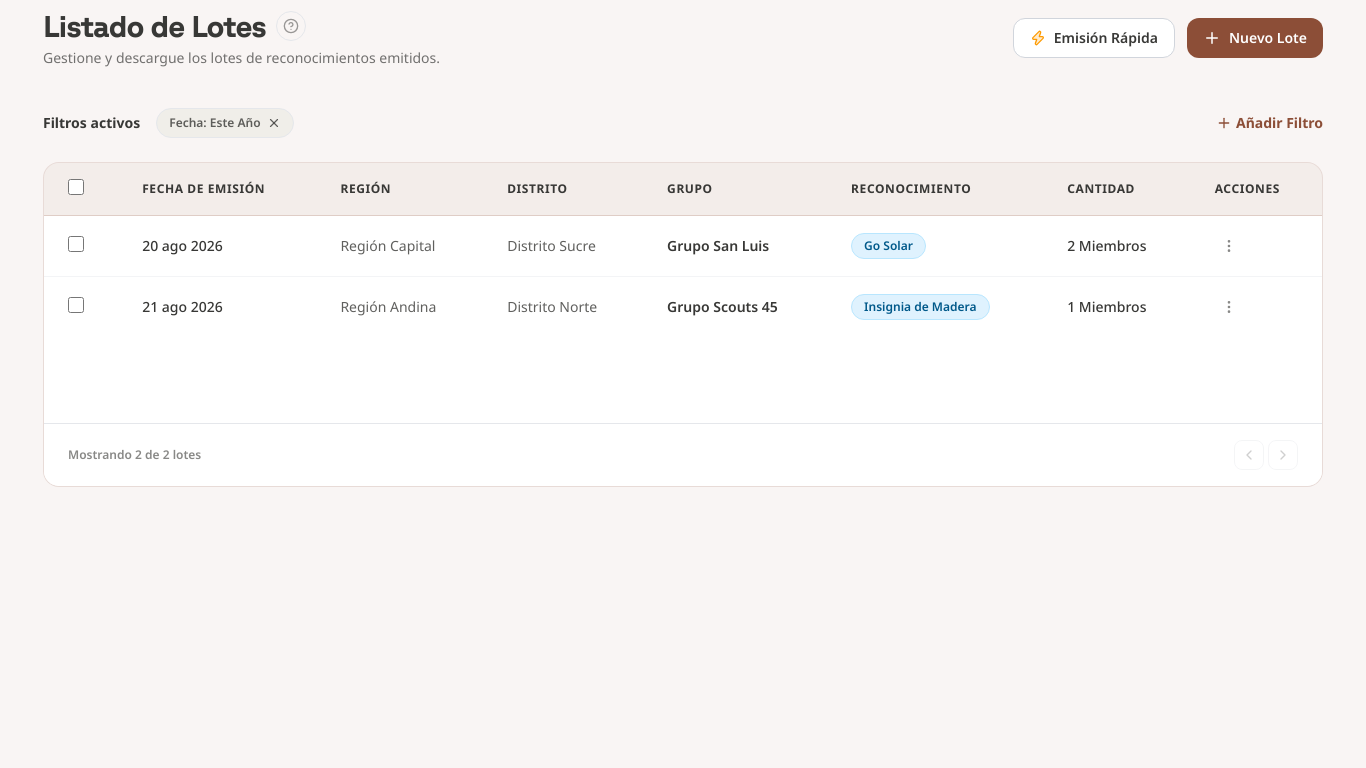
it: BatchList component › loads dynamic recognition types and populates options in the filter modal
Expected: the text "Grupo San Luis" is shown, [667,236,769,255]
Click Añadir Filtro
Click the button "Añadir Filtro". click: (1270, 123)
box: [1216,113,1323,133]
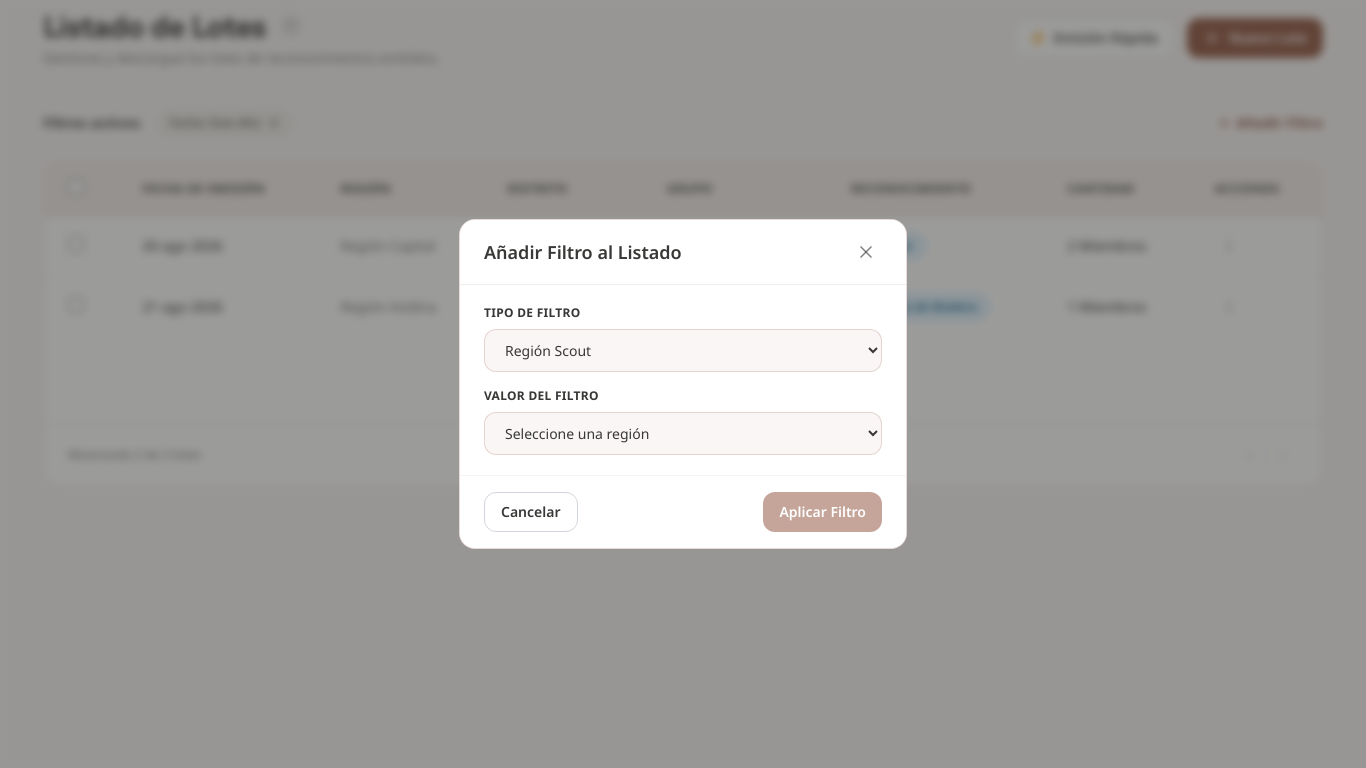
Now the text "Añadir Filtro al Listado" is shown, box [484,238,682,266]
Change filter type to recognition
Select "Tipo de Reconocimiento" in the dropdown labelled "Tipo de Filtro". click: (683, 350)
box: [484,329,882,372]
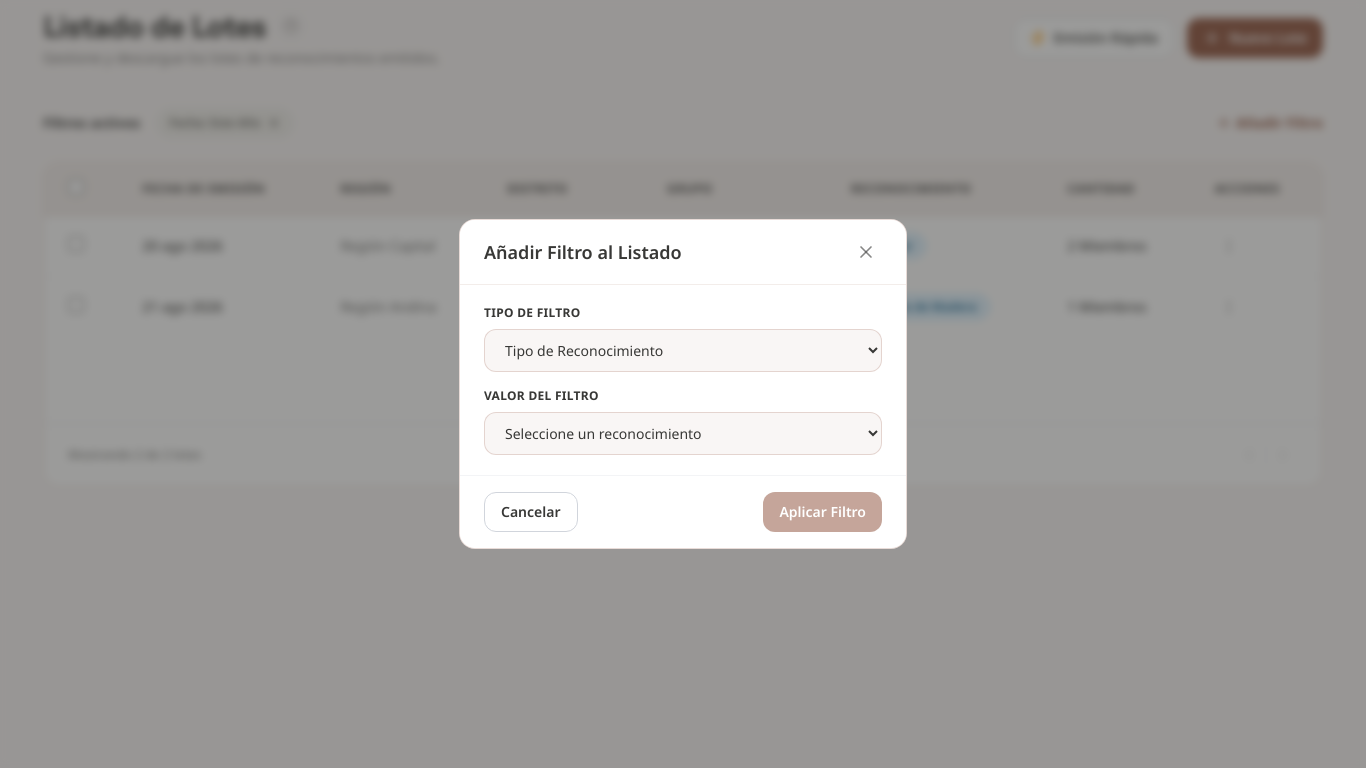
Select custom recognition and apply
Select "Reconocimiento Personalizado" in the dropdown labelled "Valor del Filtro". click: (683, 434)
box: [484,412,882,455]
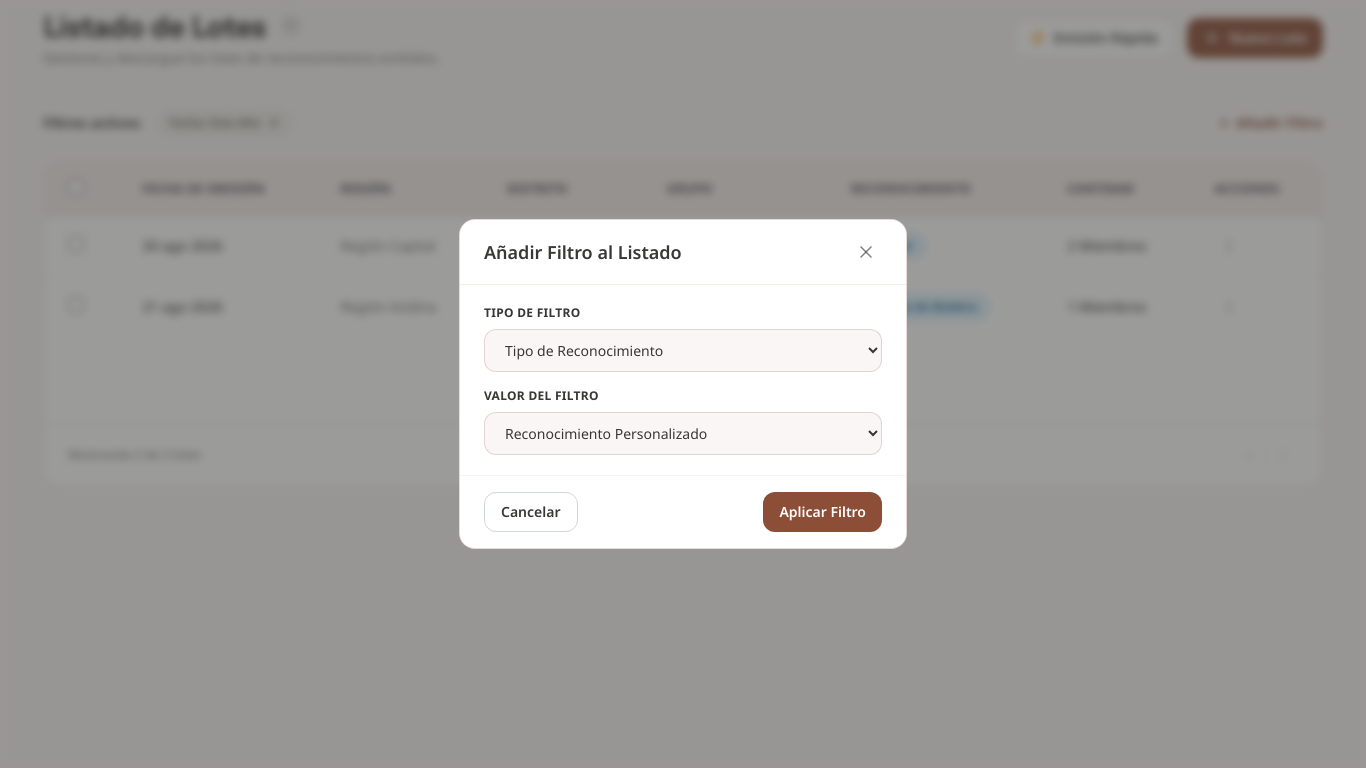
Click the button "Aplicar Filtro". click: (823, 512)
box: [763,492,882,532]
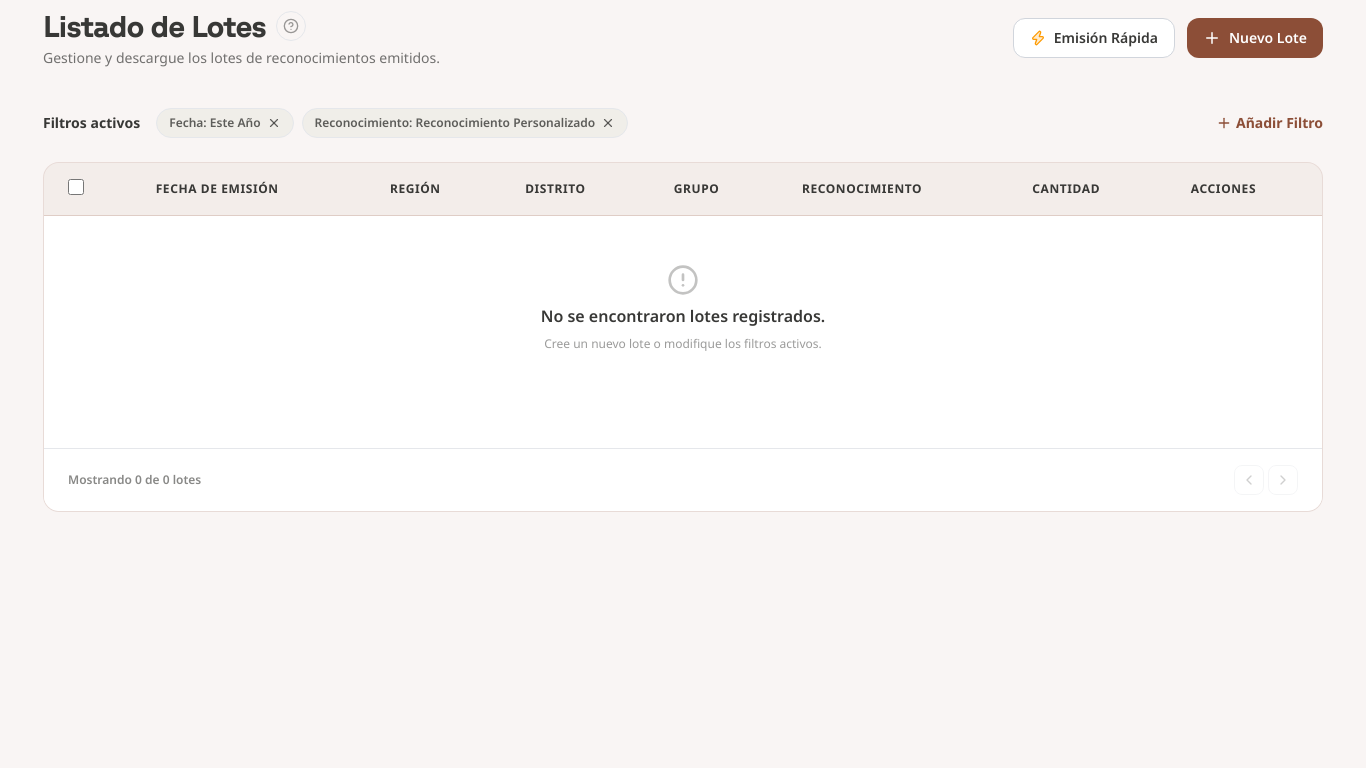
Now the text "Reconocimiento: Reconocimiento Personalizado" is shown, box [314,115,595,131]
